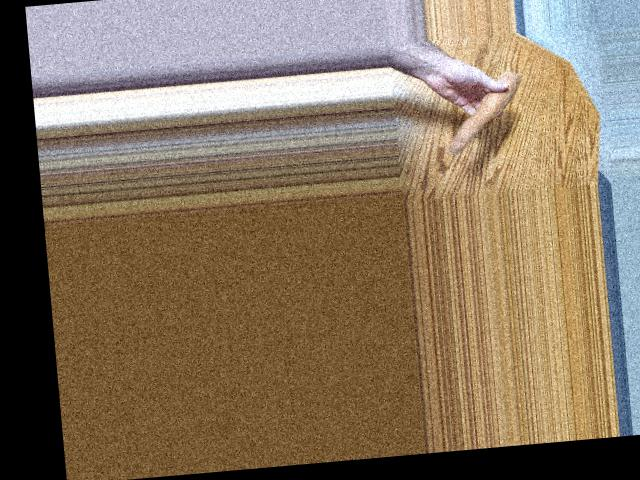sweet_potato: (444, 69, 523, 153)
